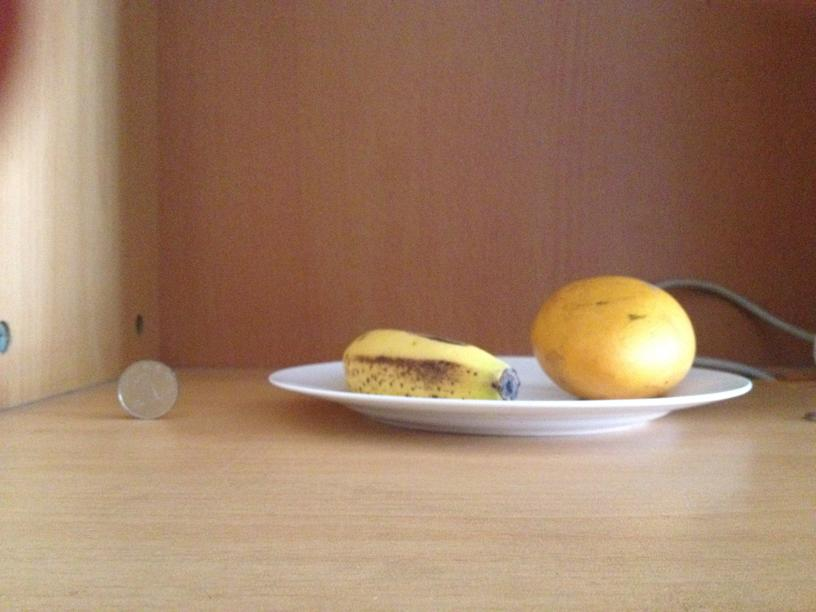banana: (342, 326, 517, 398)
coin: (116, 358, 178, 420)
mango: (534, 279, 695, 397)
